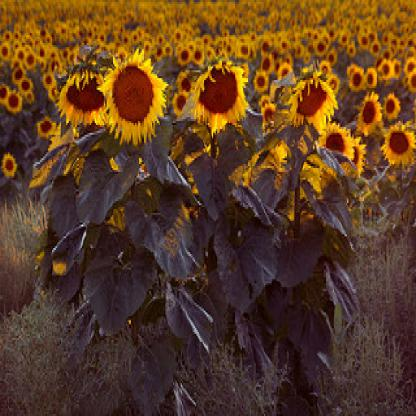SUN FLOWER: (9, 17, 404, 257)
